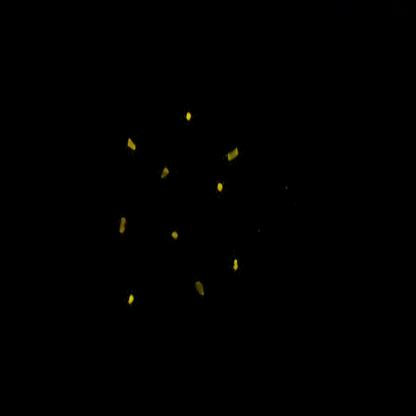PE: (166, 218, 185, 256), (124, 281, 142, 315), (228, 251, 246, 280), (180, 109, 198, 132), (213, 176, 228, 199)
PP: (121, 132, 144, 162), (187, 275, 209, 303), (158, 160, 176, 194), (224, 141, 243, 170), (117, 208, 133, 241)
